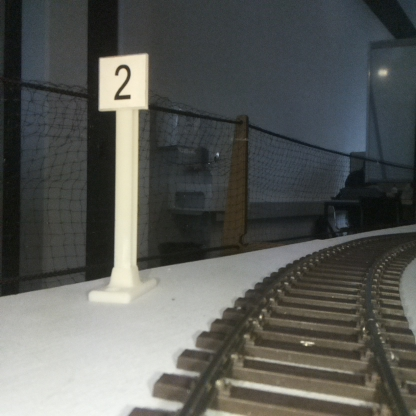white-info-2: (99, 55, 147, 300)
